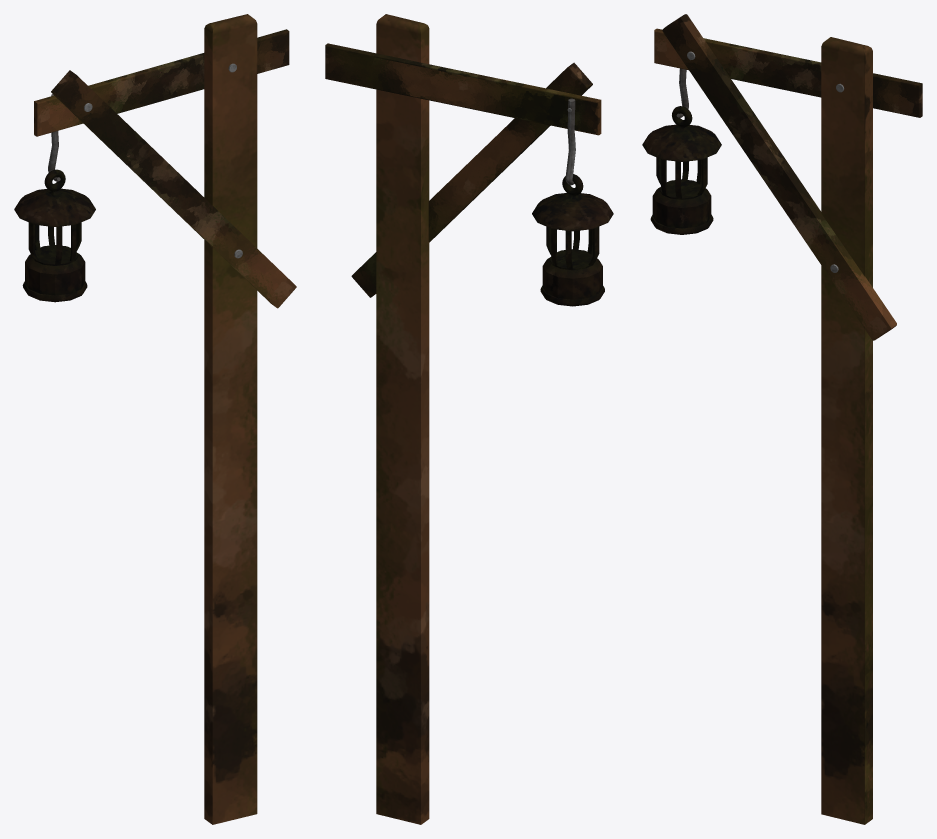
Rendered from Poste Madeira Sustentacao.fbx.
The picture shows the model from 3 angles, left to right: view 1: azimuth 30°, elevation 25°; view 2: azimuth 150°, elevation 25°; view 3: azimuth 330°, elevation 25°; orthographic projection. The views are drawn at different scales.
Visible parts, largest first — view 1: Poste Madeira Sustentacao, Poste_tabua_diagonal_MESH, Poste_tabua_horizontal_MESH, Luminaria_parte_inferior_MESH, Luminaria_parte_superior_MESH; view 2: Poste Madeira Sustentacao, Poste_tabua_horizontal_MESH, Poste_tabua_diagonal_MESH, Luminaria_parte_inferior_MESH, Luminaria_parte_superior_MESH, Corda_MESH; view 3: Poste Madeira Sustentacao, Poste_tabua_diagonal_MESH, Poste_tabua_horizontal_MESH, Luminaria_parte_inferior_MESH, Luminaria_parte_superior_MESH.
Part boxes in pixels (x1,y1,x2,y2): Poste Madeira Sustentacao: [204, 14, 257, 824]; Poste_tabua_diagonal_MESH: [51, 70, 296, 308]; Poste_tabua_horizontal_MESH: [34, 29, 289, 136]; Luminaria_parte_inferior_MESH: [22, 222, 87, 302]; Luminaria_parte_superior_MESH: [14, 169, 95, 226]; Poste Madeira Sustentacao: [376, 14, 429, 824]; Poste_tabua_horizontal_MESH: [325, 43, 601, 135]; Poste_tabua_diagonal_MESH: [351, 62, 592, 297]; Luminaria_parte_inferior_MESH: [540, 226, 604, 306]; Luminaria_parte_superior_MESH: [532, 174, 613, 231]; Corda_MESH: [565, 98, 575, 185]; Poste Madeira Sustentacao: [821, 37, 872, 824]; Poste_tabua_diagonal_MESH: [662, 14, 896, 340]; Poste_tabua_horizontal_MESH: [654, 28, 922, 117]; Luminaria_parte_inferior_MESH: [650, 157, 713, 234]; Luminaria_parte_superior_MESH: [642, 106, 721, 161].
Size of the model in its own units: 119 by 329 by 30.56.
5 materials, 5 textured.
